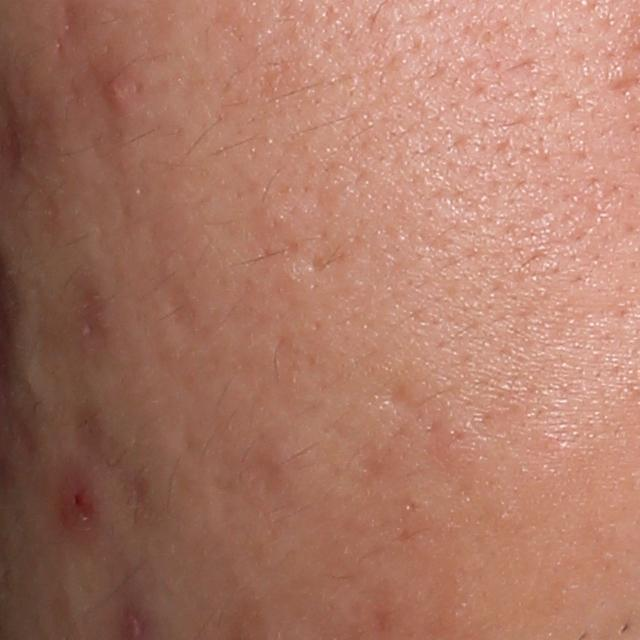atrophic_scar: (186, 444, 294, 601), (67, 392, 171, 549), (48, 253, 114, 386), (68, 104, 141, 202), (19, 185, 64, 266), (164, 278, 202, 351), (372, 376, 420, 426)
papule: (52, 482, 99, 530), (99, 74, 133, 107)
